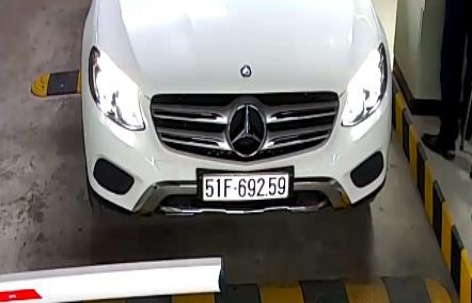plate: (200, 171, 287, 204)
